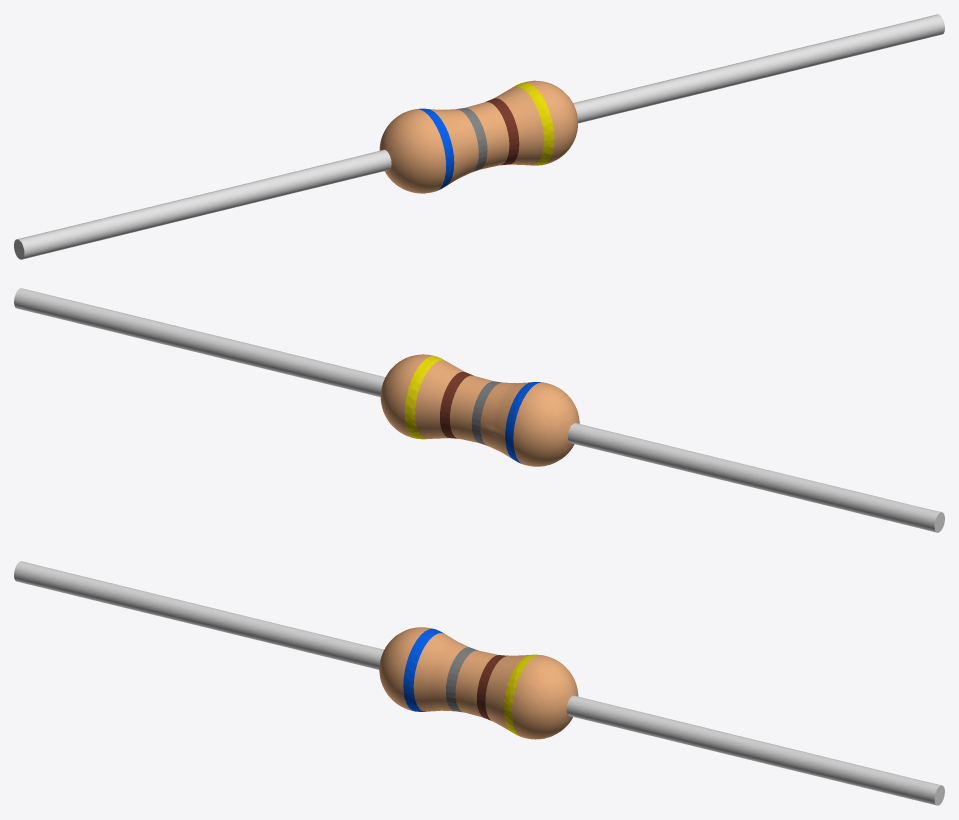
The model's file is resistor_680ohms.glb.
3 views of the same model, one above another, from view 1: azimuth 30°, elevation 25°; view 2: azimuth 150°, elevation 25°; view 3: azimuth 330°, elevation 25° (orthographic).
Visible parts, largest first — view 1: METAL_008-material, CERAMICA_005-material, OURO_006-material, MARRON_004-material, AZUL-material, CINZA-material; view 2: METAL_008-material, CERAMICA_005-material, OURO_006-material, MARRON_004-material, AZUL-material, CINZA-material; view 3: METAL_008-material, CERAMICA_005-material, AZUL-material, OURO_006-material, CINZA-material, MARRON_004-material.
Part boxes in pixels (x1=…): METAL_008-material: x1=14, y1=14, x2=944, y2=259; CERAMICA_005-material: x1=379, y1=80, x2=577, y2=193; OURO_006-material: x1=513, y1=82, x2=554, y2=165; MARRON_004-material: x1=485, y1=98, x2=519, y2=165; AZUL-material: x1=418, y1=108, x2=454, y2=190; CINZA-material: x1=456, y1=107, x2=487, y2=172; METAL_008-material: x1=14, y1=288, x2=944, y2=532; CERAMICA_005-material: x1=380, y1=354, x2=579, y2=466; OURO_006-material: x1=404, y1=356, x2=445, y2=439; MARRON_004-material: x1=440, y1=371, x2=473, y2=438; AZUL-material: x1=505, y1=382, x2=540, y2=463; CINZA-material: x1=471, y1=381, x2=502, y2=445; METAL_008-material: x1=14, y1=561, x2=944, y2=805; CERAMICA_005-material: x1=379, y1=627, x2=578, y2=739; AZUL-material: x1=403, y1=628, x2=444, y2=711; OURO_006-material: x1=504, y1=654, x2=539, y2=736; CINZA-material: x1=446, y1=647, x2=478, y2=712; MARRON_004-material: x1=477, y1=655, x2=508, y2=720.
Size of the model in its own units: 0.0299 by 0.00239 by 0.00241.
